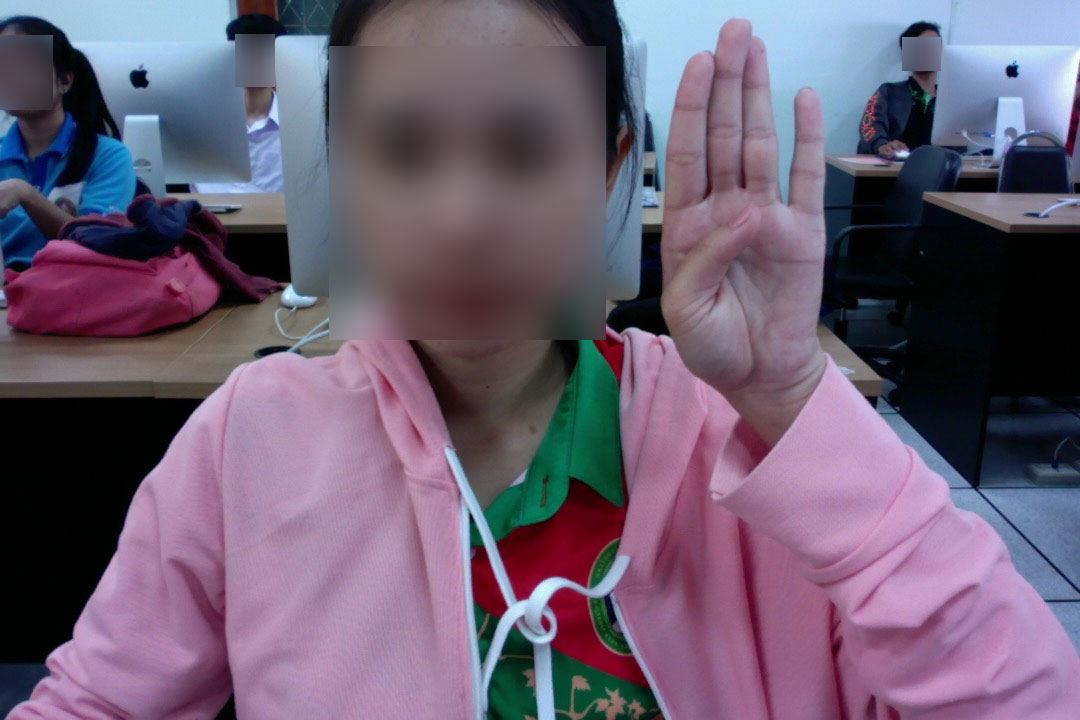bor: (655, 10, 835, 414)
